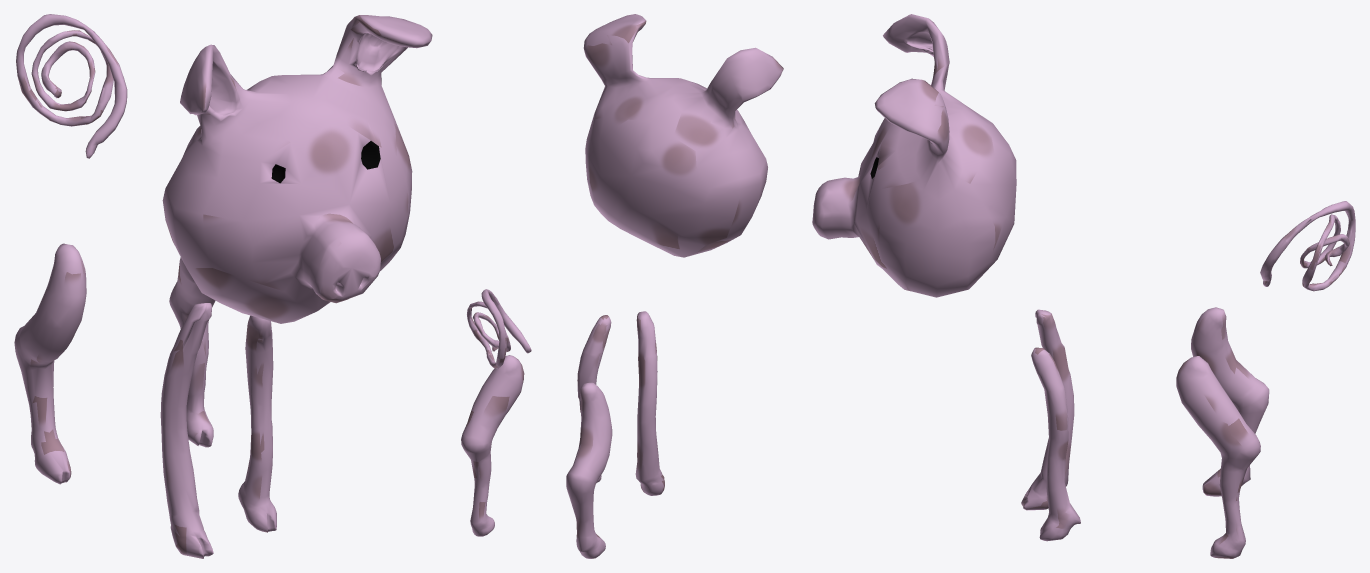
File: ch4_pig.glb
The picture shows the model from 3 angles, left to right: view 1: azimuth 30°, elevation 25°; view 2: azimuth 150°, elevation 25°; view 3: azimuth 270°, elevation 25°; orthographic projection. The views are drawn at different scales.
Visible parts, largest first — view 1: _h4, _r43, _b42, _r41, _b41, _r42; view 2: _h4, _r42, _r43, _b42, _r41, _b41; view 3: _h4, _r42, _r43, _b41, _r41, _b42.
Part boxes in pixels (box(x1,y1,x2,y2)): _h4: box(162, 15, 432, 323); _r43: box(14, 243, 86, 484); _b42: box(160, 303, 213, 558); _r41: box(16, 14, 127, 158); _b41: box(238, 315, 276, 532); _r42: box(169, 257, 215, 447); _h4: box(583, 14, 783, 257); _r42: box(461, 355, 524, 536); _r43: box(566, 382, 612, 558); _b42: box(635, 311, 664, 495); _r41: box(467, 289, 531, 368); _b41: box(577, 315, 611, 482); _h4: box(812, 14, 1016, 297); _r42: box(1176, 356, 1260, 558); _r43: box(1191, 307, 1269, 496); _b41: box(1031, 347, 1080, 541); _r41: box(1260, 201, 1355, 291); _b42: box(1021, 309, 1074, 510).
Bounding box in the file's own units: 0.6166 × 1.36 × 1.42.
2 materials, 1 textured.
